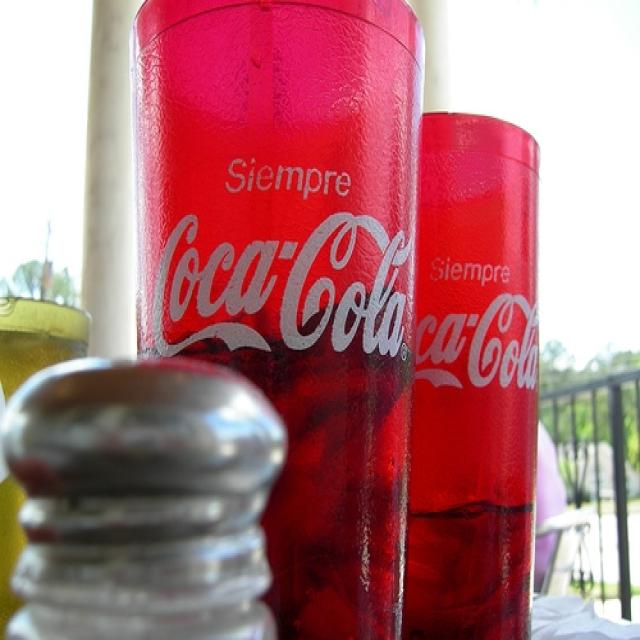cocacola: (147, 199, 416, 371), (412, 286, 540, 397)
